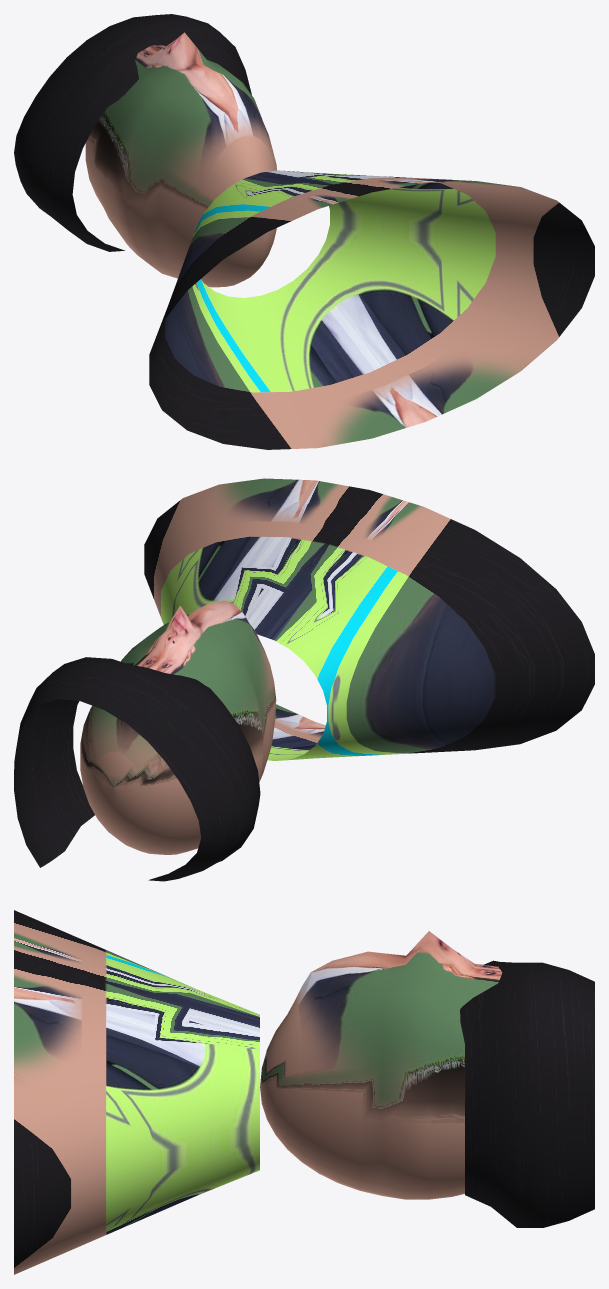
File: alex_avatar.glb
3 views of the same model, one above another, from view 1: azimuth 30°, elevation 25°; view 2: azimuth 150°, elevation 25°; view 3: azimuth 270°, elevation 25° (orthographic). The views are drawn at different scales.
Visible parts, largest first — view 1: AlexAvatar; view 2: AlexAvatar; view 3: AlexAvatar.
Part boxes in pixels (x1=…): AlexAvatar: x1=14, y1=14, x2=594, y2=449; AlexAvatar: x1=14, y1=478, x2=594, y2=881; AlexAvatar: x1=14, y1=910, x2=594, y2=1274.
Size of the model in its own units: 4.17 by 2.4 by 4.25.
1 material, 1 textured.
